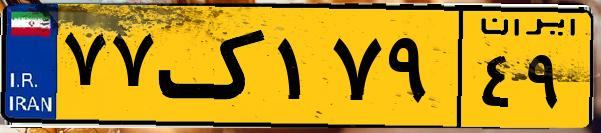1: (270, 28, 330, 110)
4: (475, 38, 525, 113)
7: (330, 28, 385, 110), (57, 26, 110, 100), (110, 28, 158, 98)
9: (385, 28, 445, 110), (525, 38, 570, 115)
ک: (158, 12, 270, 120)
